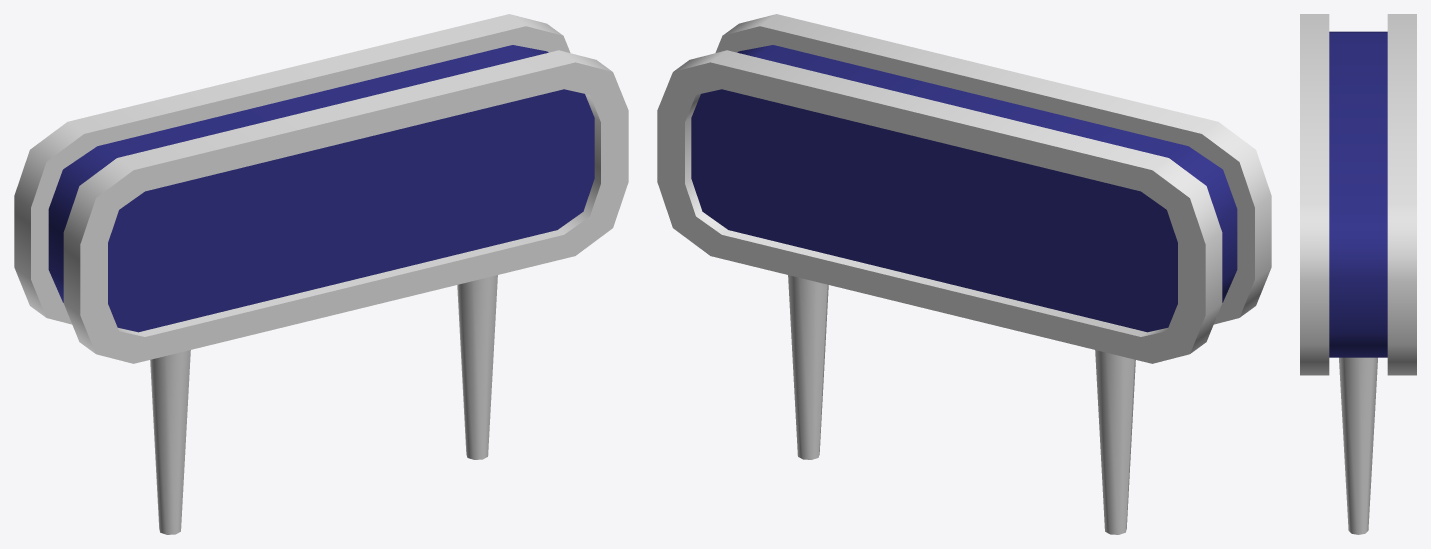
Rendered from sign.fbx.
3 renders of one model, left to right at view 1: azimuth 30°, elevation 25°; view 2: azimuth 150°, elevation 25°; view 3: azimuth 270°, elevation 25°, orthographic. The views are drawn at different scales.
Visible parts, largest first — view 1: sign; view 2: sign; view 3: sign.
Part boxes in pixels (left/top/right/bottom): sign: left=14, top=14, right=628, bottom=534; sign: left=657, top=14, right=1271, bottom=534; sign: left=1300, top=14, right=1416, bottom=534.
Size of the model in its own units: 401 by 281 by 83.8.
